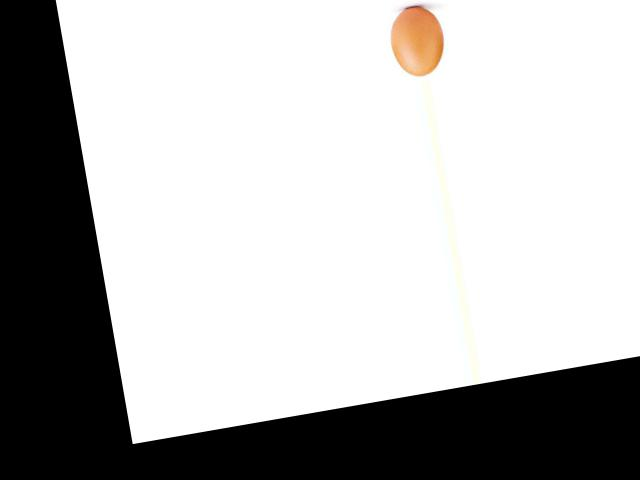egg: (386, 2, 449, 79)
